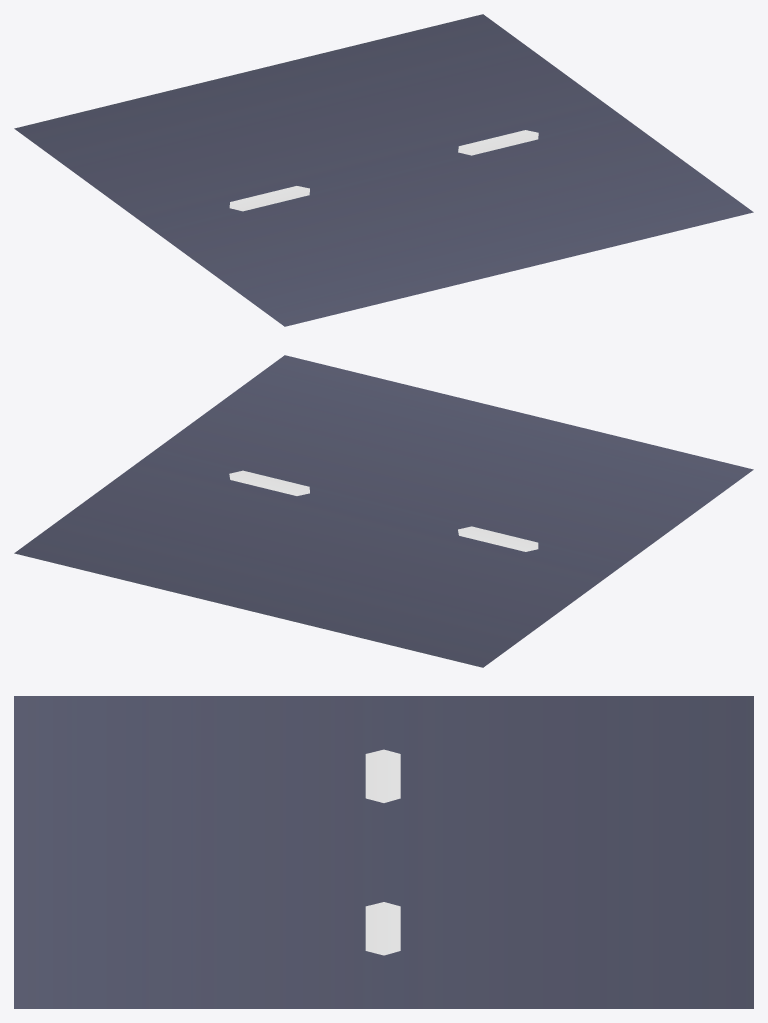
File: Street_road.fbx
3 views of the same model, one above another, from view 1: azimuth 30°, elevation 25°; view 2: azimuth 150°, elevation 25°; view 3: azimuth 270°, elevation 25° (orthographic). The views are drawn at different scales.
Visible parts, largest first — view 1: Street_road; view 2: Street_road; view 3: Street_road.
Part boxes in pixels (box(x1,y1,x2,y2)): Street_road: box(14, 14, 753, 326); Street_road: box(14, 355, 753, 667); Street_road: box(14, 696, 753, 1008).
Bounding box in the file's own units: 200 × 0 × 200.
